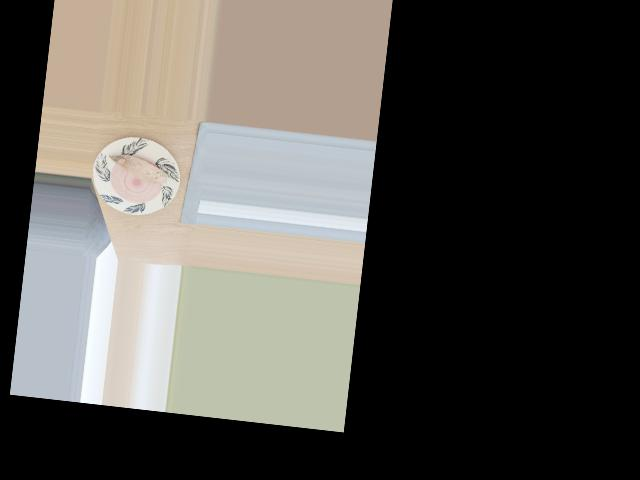sweet_potato: (111, 148, 167, 188)
